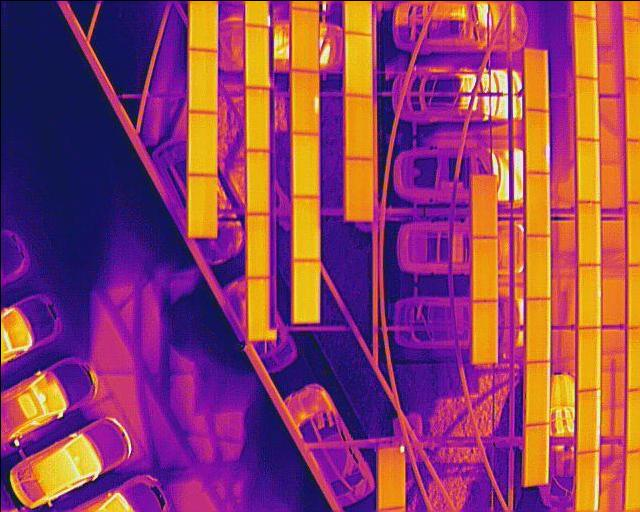Cell: (376, 445, 404, 507)
No-Anomaly: (289, 7, 318, 72), (188, 172, 217, 237), (186, 48, 215, 111), (187, 110, 215, 175), (344, 32, 372, 96), (344, 156, 372, 220), (344, 93, 371, 159), (291, 132, 318, 197), (521, 47, 548, 111), (291, 195, 318, 259), (291, 259, 318, 322), (572, 15, 597, 81), (524, 234, 549, 300), (575, 136, 600, 201), (471, 237, 496, 302), (524, 172, 549, 236), (471, 174, 496, 237), (244, 86, 269, 149), (575, 74, 598, 141), (577, 263, 601, 327), (577, 200, 600, 266), (245, 149, 268, 215), (244, 24, 268, 87), (471, 300, 496, 360), (526, 300, 550, 362), (525, 360, 548, 424), (576, 326, 598, 392), (525, 423, 548, 486), (245, 215, 268, 277), (245, 278, 268, 339)
Unclassified: (290, 67, 318, 134), (524, 108, 548, 173), (577, 389, 599, 452), (577, 451, 598, 512)
